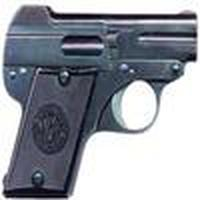gun: (2, 5, 194, 200)
